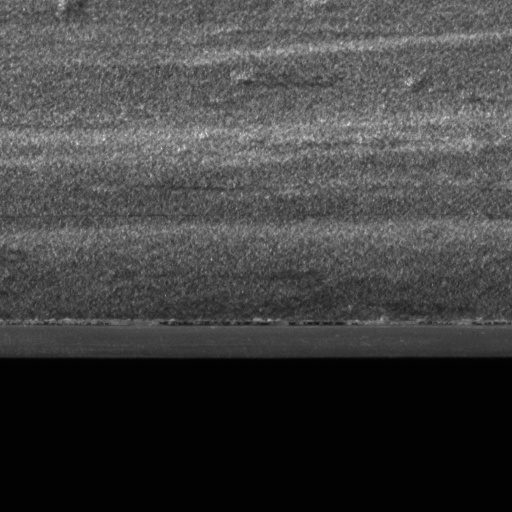jiaofeng: (157, 316, 359, 341)
